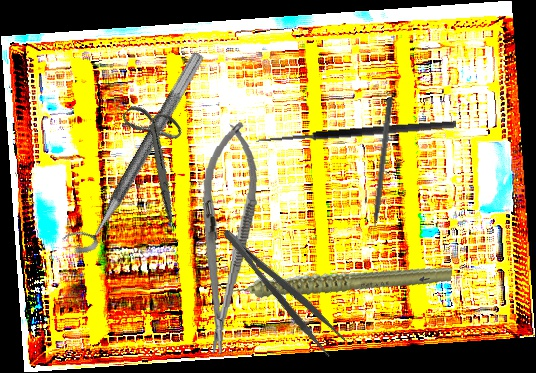Dressing Forceps: (218, 216, 349, 360)
Fixation Ring: (59, 40, 206, 262)
Handpiece: (215, 225, 454, 333)
Hook Surgical: (255, 119, 458, 156)
Iris Scissors: (91, 90, 225, 225)
Needle Holder: (187, 119, 264, 357)
Pusher: (367, 96, 394, 248)
